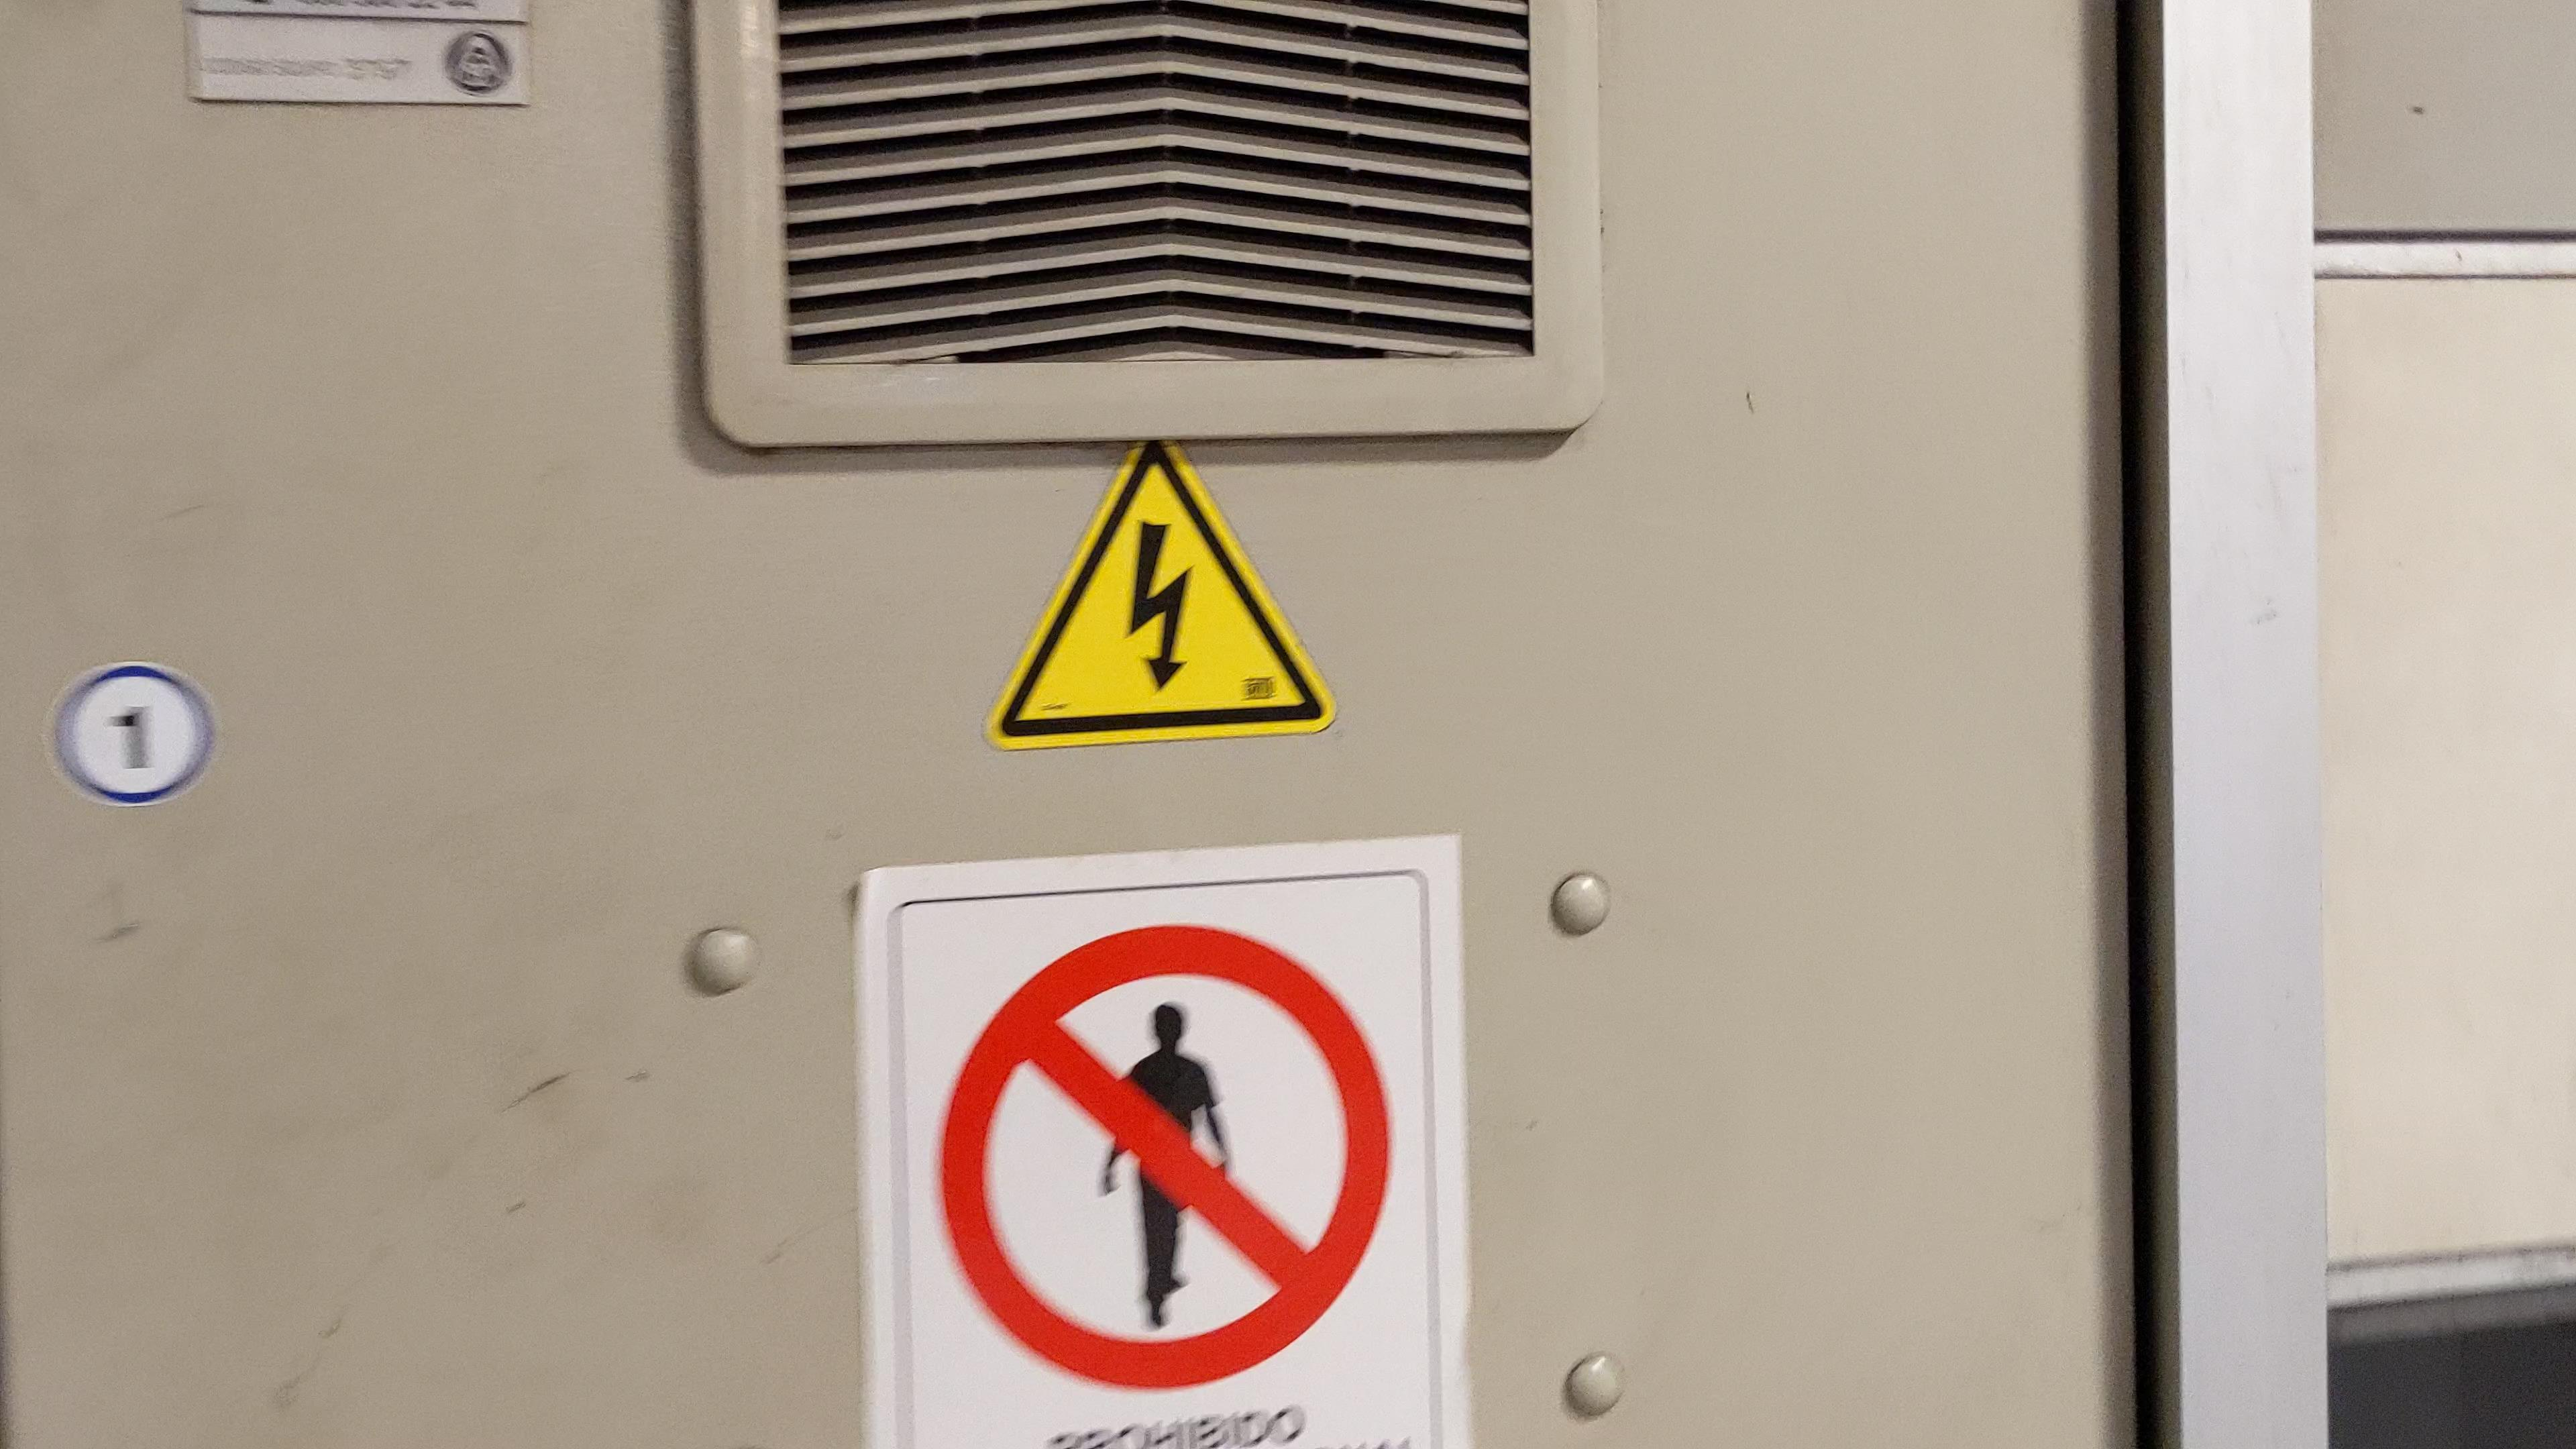danger-electricity: (980, 439, 1338, 757)
